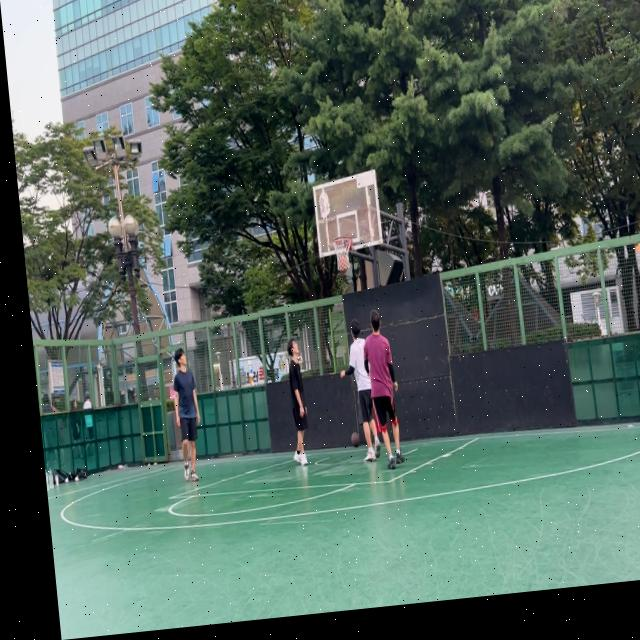basketball: (338, 254, 349, 274)
hoop: (332, 235, 355, 273), (332, 235, 355, 272)
